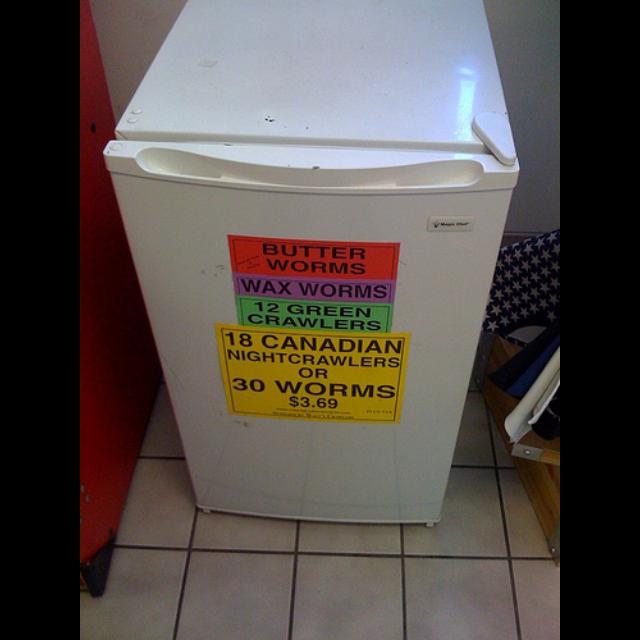Refrigerator: (102, 4, 522, 528)
